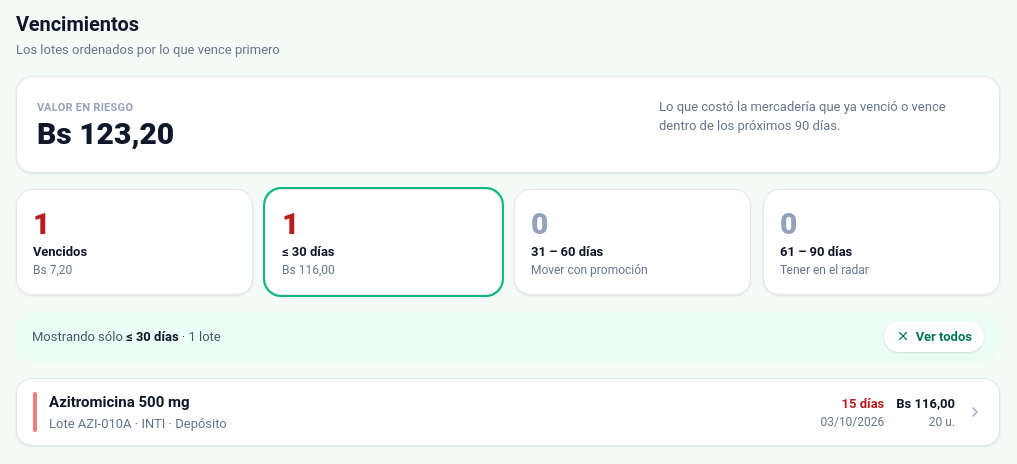
Test: Llegar desde el semáforo del Dashboard › filtrado, lo dice y «Ver todos» vuelve a la lista completa
Check: the text "Mostrando sólo ≤ 30 días · 1 lote" is shown, box [32,326,221,346]
Click the button "Ver todos" at (934, 336), box [884,320,984,352]
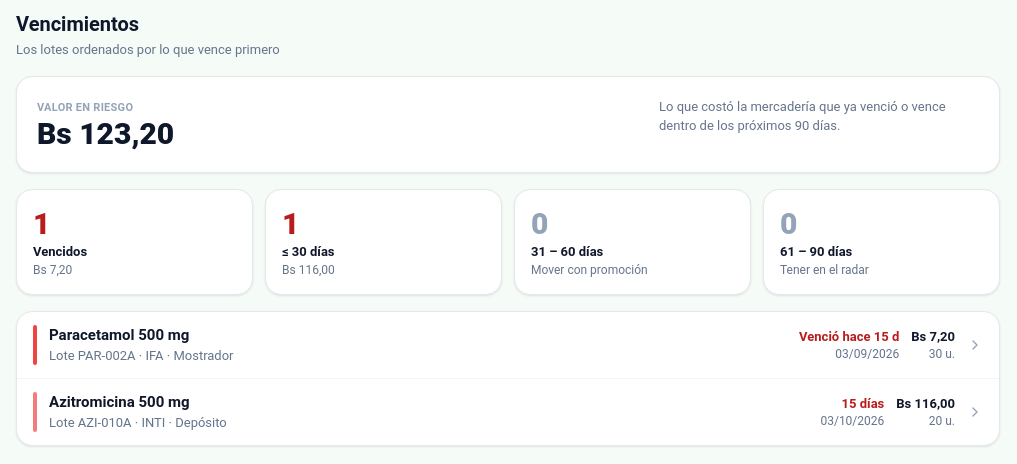
Check: the text "Azitromicina 500 mg" is shown, box [49,392,190,410]
Check: the text "Paracetamol 500 mg" is shown, box [49,326,189,344]
Check: the text "Mostrando sólo" is gone
